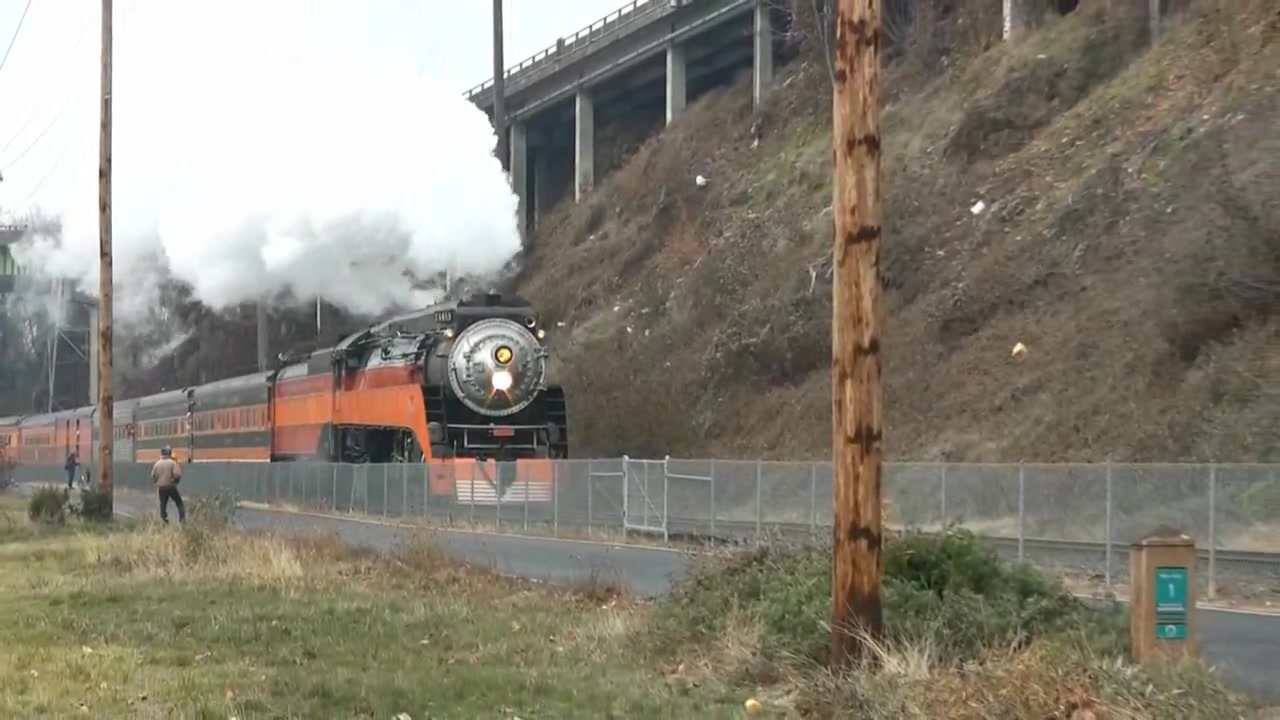train: (1, 287, 572, 513)
